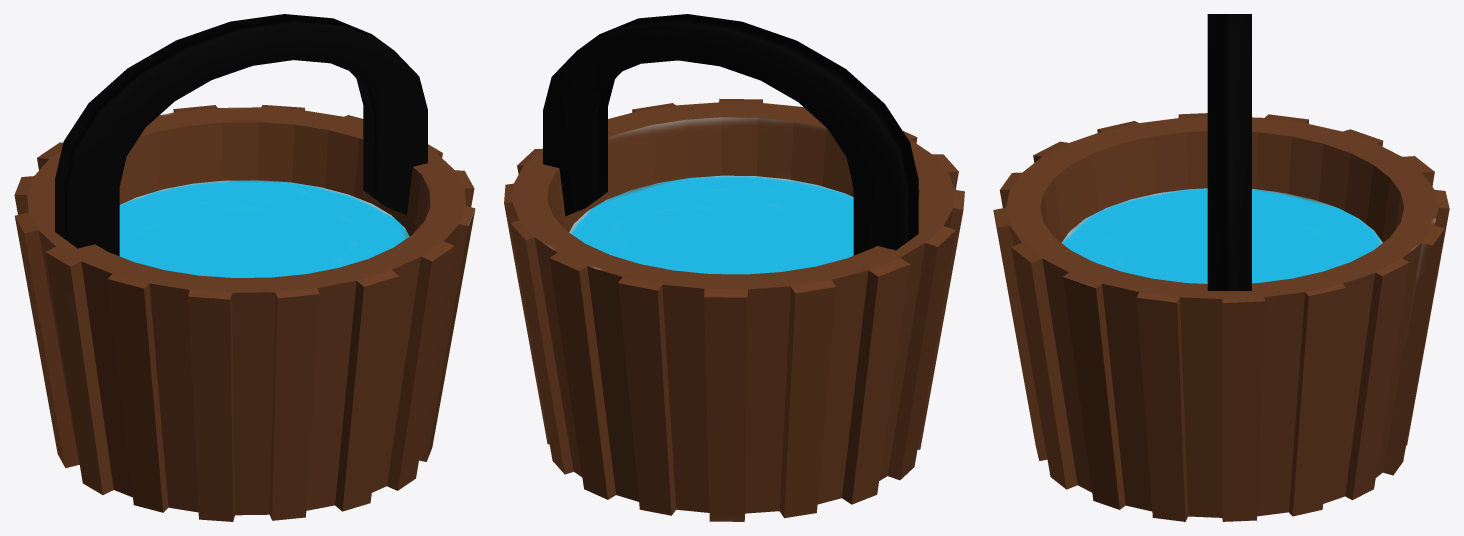
File: water_bucket.glb
3 views of the same model, side by side, from view 1: azimuth 30°, elevation 25°; view 2: azimuth 150°, elevation 25°; view 3: azimuth 270°, elevation 25° (orthographic). The views are drawn at different scales.
Parts seen in each view (by area): view 1: Circle, Cube; view 2: Circle, Cube; view 3: Circle, Cube.
Part boxes in pixels (x1,y1,x2,y2): Circle: (14,105,475,521); Cube: (55,14,427,256); Circle: (504,98,964,521); Cube: (543,14,918,255); Circle: (993,113,1449,521); Cube: (1207,14,1251,290).
Bounding box in the file's own units: 2.61 × 2.56 × 2.63.
Materials: 2 (1 with a texture image).
